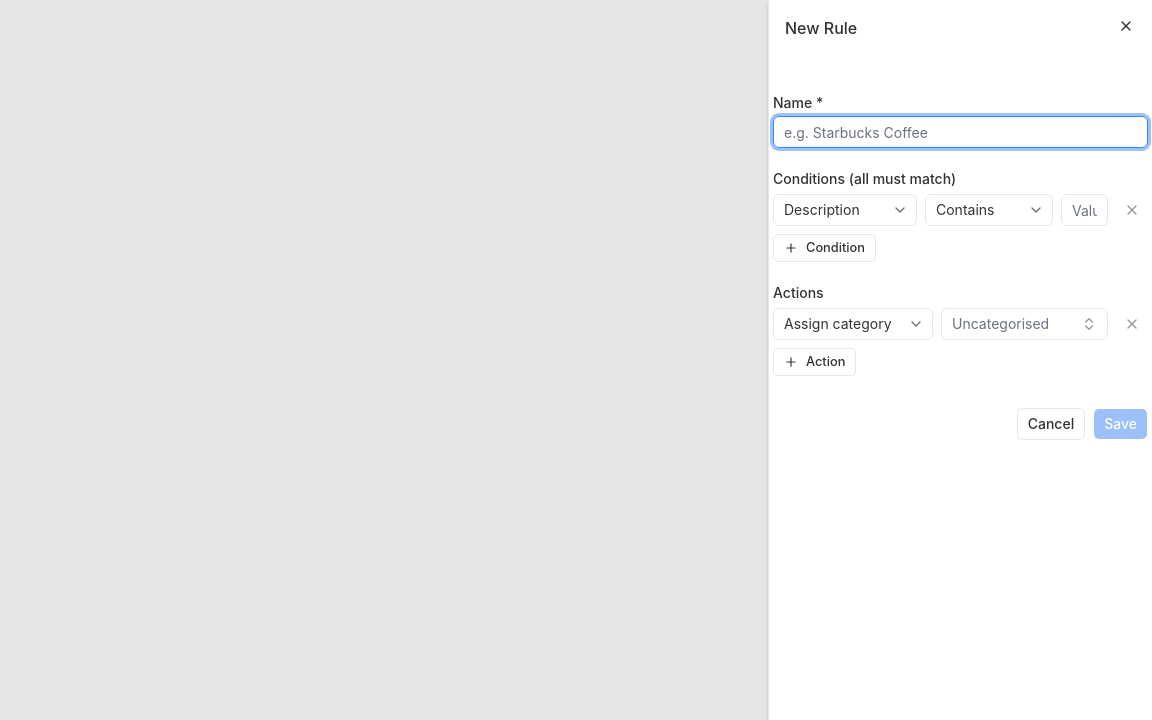
RuleBuilderSheet — operator filtering › shows numeric operators when amount field is selected
The width and height of the screenshot is (1152, 720).
Check: the element with test id "condition-row-0" is shown, box [773,194,1148,226]
Change field to amount - open the select
Click the dropdown with test id "condition-field-0" at (845, 210), box [773,194,917,226]
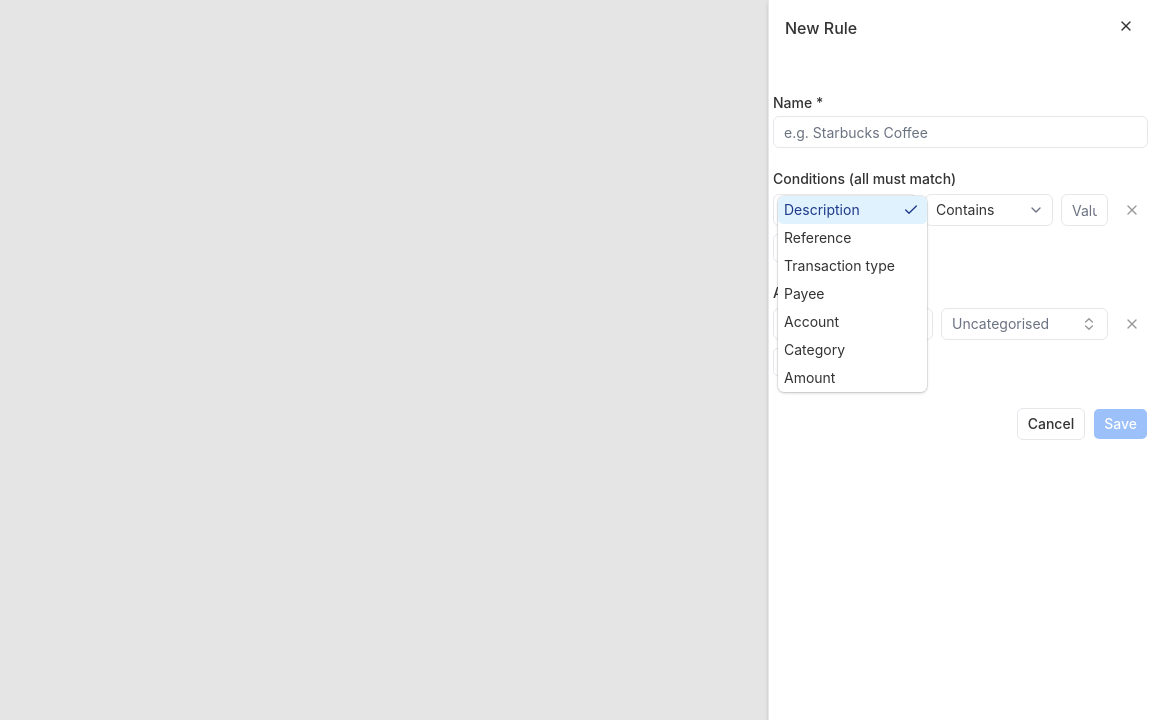
Check: the text "Amount" is shown, box [784,368,836,388]
